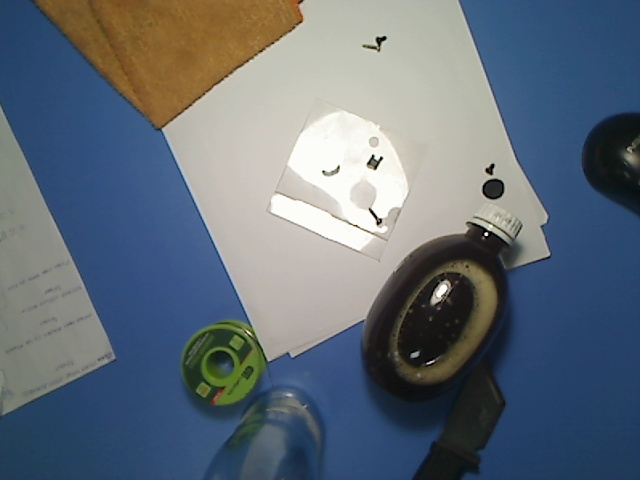plast_bottle: (359, 198, 525, 408)
